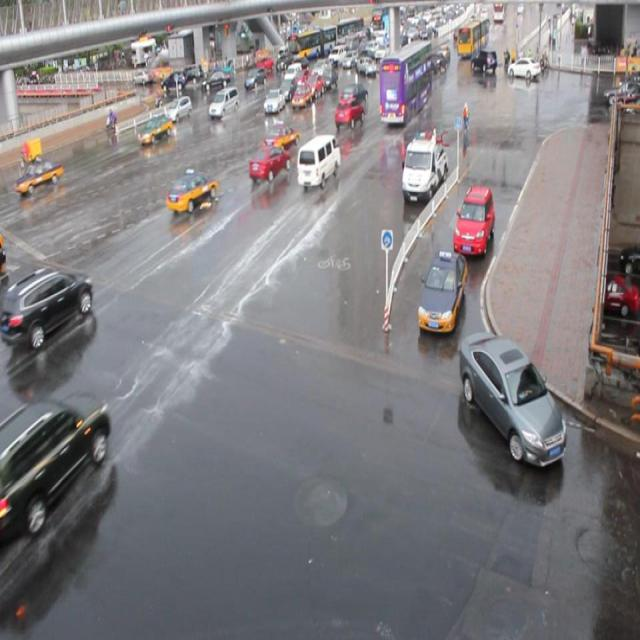bus: (401, 132, 446, 202)
car: (1, 391, 109, 538), (458, 328, 566, 465), (8, 257, 93, 350), (416, 248, 466, 332), (452, 183, 494, 256), (165, 168, 217, 214), (18, 157, 63, 194), (248, 144, 290, 181), (262, 120, 300, 153), (138, 114, 172, 144), (333, 96, 364, 128), (208, 86, 239, 118), (338, 82, 368, 109), (165, 95, 192, 123), (243, 65, 266, 90), (264, 89, 286, 114), (292, 84, 312, 108), (306, 73, 324, 96), (279, 78, 297, 100), (293, 69, 310, 90)
truck: (296, 134, 340, 188)
van: (378, 39, 431, 125)
